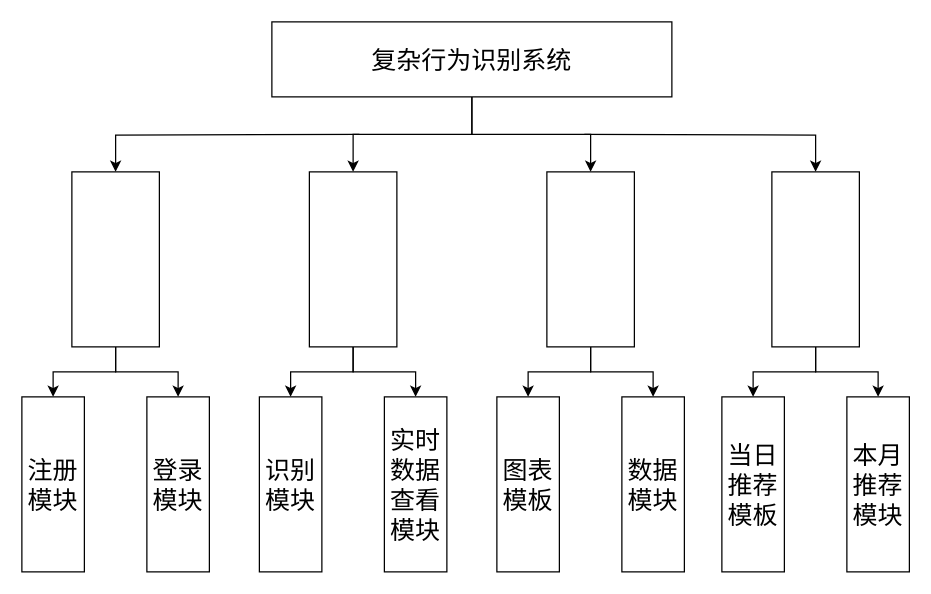
This 931x594 diagram has some shape labels left out. The shapes that lost their labels are listed below. From the top down, each one's centre as x and y in pixels, then its label:
the point at 115,259: 注册/登录模块
the point at 352,259: 行为识别模块
the point at 590,259: 数据查询模块
the point at 815,259: 行为推荐模块
